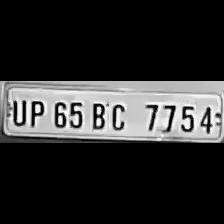4: (196, 103, 216, 133)
5: (66, 97, 86, 128), (176, 102, 196, 132)
6: (48, 98, 68, 128)
7: (138, 100, 162, 132), (156, 100, 176, 132)
B: (86, 98, 108, 130)
C: (106, 99, 130, 131)
P: (26, 97, 46, 127)
U: (6, 96, 26, 126)
